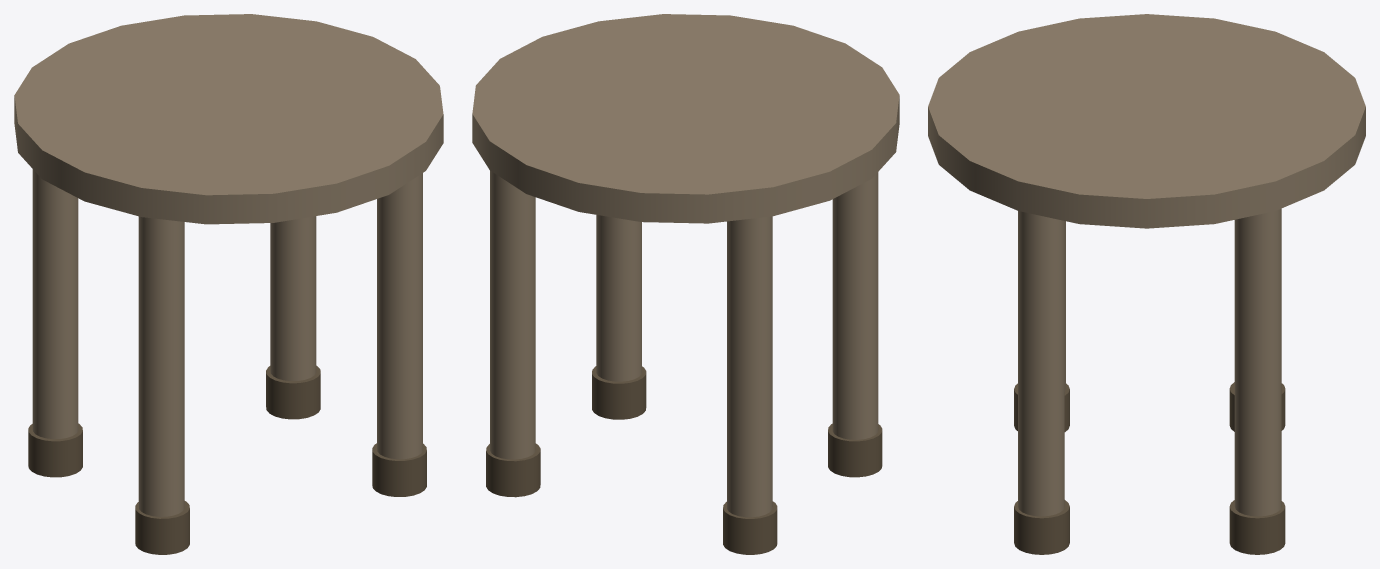
The model's file is colored living room table.fbx.
3 renders of one model, left to right at view 1: azimuth 30°, elevation 25°; view 2: azimuth 150°, elevation 25°; view 3: azimuth 270°, elevation 25°, orthographic.
Visible parts, largest first — view 1: pCylinder6, pCylinder9, pCylinder10, pCylinder7, pCylinder8; view 2: pCylinder6, pCylinder8, pCylinder9, pCylinder10, pCylinder7; view 3: pCylinder6, pCylinder9, pCylinder8.
Part boxes in pixels (x1,y1,x2,y2): pCylinder6: [14, 14, 443, 516]; pCylinder9: [266, 365, 320, 419]; pCylinder10: [28, 423, 82, 477]; pCylinder7: [135, 501, 189, 554]; pCylinder8: [372, 443, 426, 496]; pCylinder6: [472, 14, 899, 517]; pCylinder8: [592, 366, 646, 419]; pCylinder9: [486, 443, 540, 497]; pCylinder10: [723, 501, 777, 554]; pCylinder7: [828, 423, 882, 477]; pCylinder6: [928, 14, 1365, 516]; pCylinder9: [1229, 500, 1285, 554]; pCylinder8: [1014, 500, 1069, 554].
Bounding box in the file's own units: 0.7109 × 0.6766 × 0.7109.
